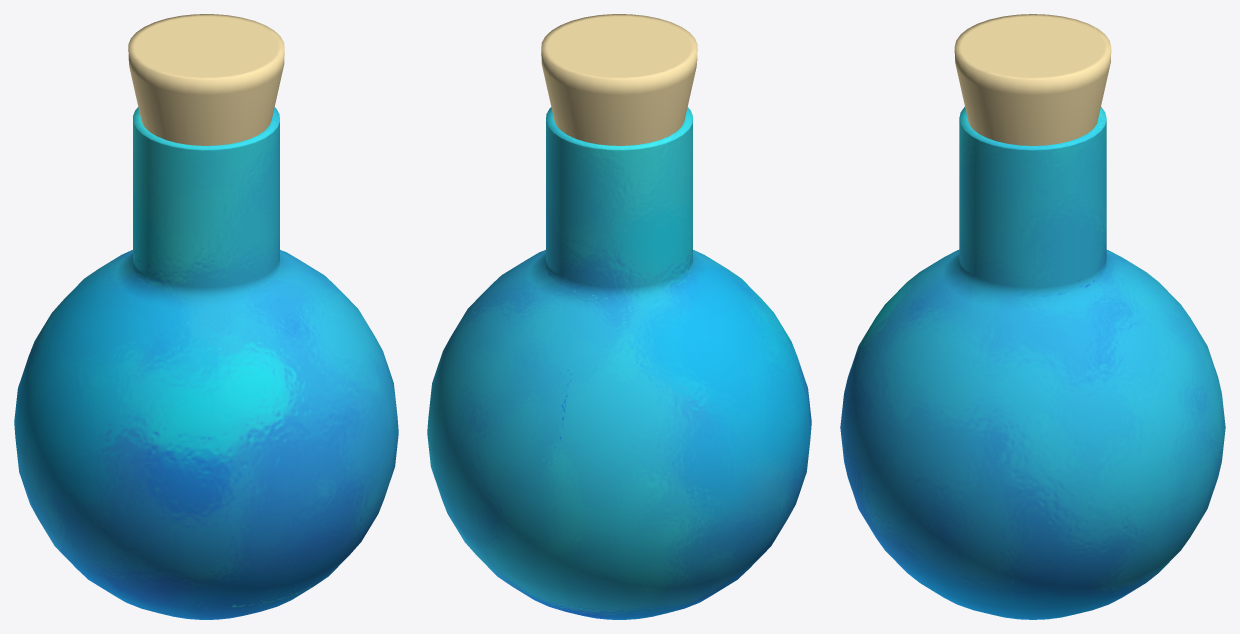
The model's file is potion.fbx.
The picture shows the model from 3 angles, left to right: view 1: azimuth 30°, elevation 25°; view 2: azimuth 150°, elevation 25°; view 3: azimuth 270°, elevation 25°; orthographic projection.
Visible parts, largest first — view 1: Sphere.002; view 2: Sphere.002; view 3: Sphere.002.
Boxes of the visible parts, left/top/right/bottom form: Sphere.002: left=14, top=14, right=398, bottom=619; Sphere.002: left=427, top=14, right=811, bottom=619; Sphere.002: left=840, top=14, right=1225, bottom=619.
Bounding box in the file's own units: 0.377 × 0.5991 × 0.377.
1 material, 1 textured.
